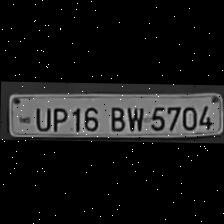0: (178, 104, 198, 130)
1: (69, 104, 83, 131)
4: (196, 102, 212, 129)
5: (146, 103, 166, 131)
6: (78, 104, 100, 132)
7: (163, 103, 179, 131)
B: (106, 103, 127, 132)
P: (48, 104, 68, 130)
U: (32, 104, 50, 130)
W: (125, 104, 144, 132)
